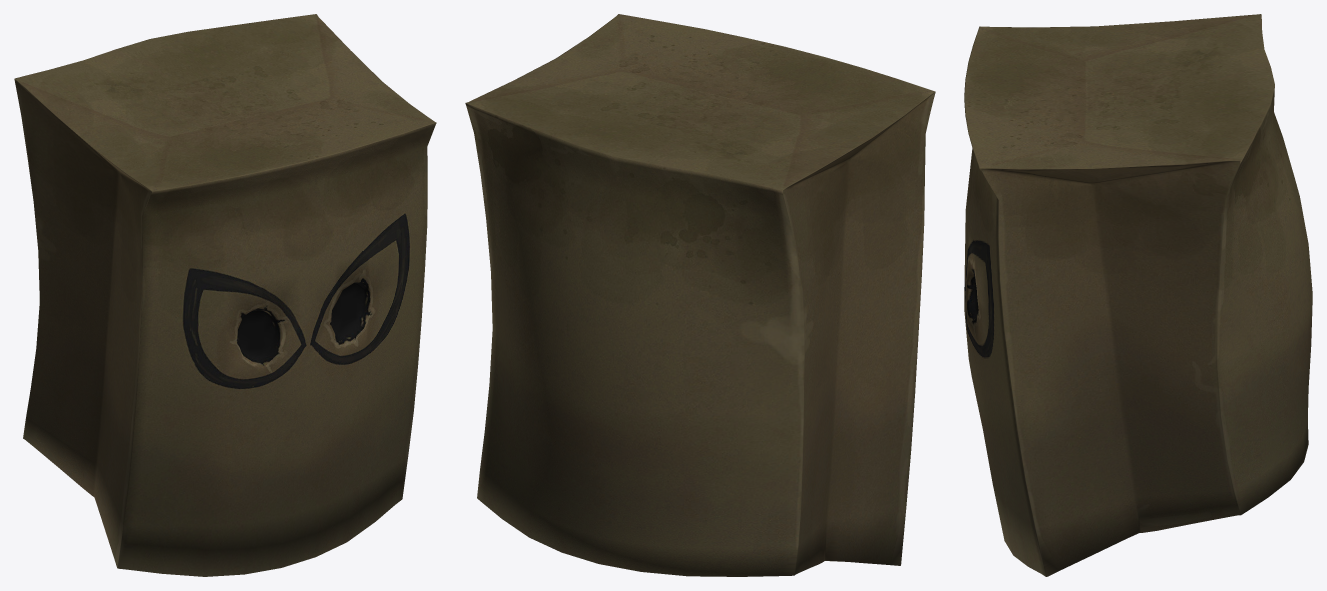
Rendered from paperbag_mask.glb.
3 views of the same model, side by side, from view 1: azimuth 30°, elevation 25°; view 2: azimuth 150°, elevation 25°; view 3: azimuth 270°, elevation 25° (orthographic). The views are drawn at different scales.
Visible parts, largest first — view 1: sm_6.001; view 2: sm_6.001; view 3: sm_6.001.
Boxes of the visible parts, left/top/right/bottom form: sm_6.001: left=14, top=14, right=436, bottom=576; sm_6.001: left=465, top=14, right=935, bottom=576; sm_6.001: left=964, top=14, right=1312, bottom=576.
Size of the model in its own units: 0.2008 by 0.2804 by 0.2013.
Materials: 1 (1 with a texture image).
